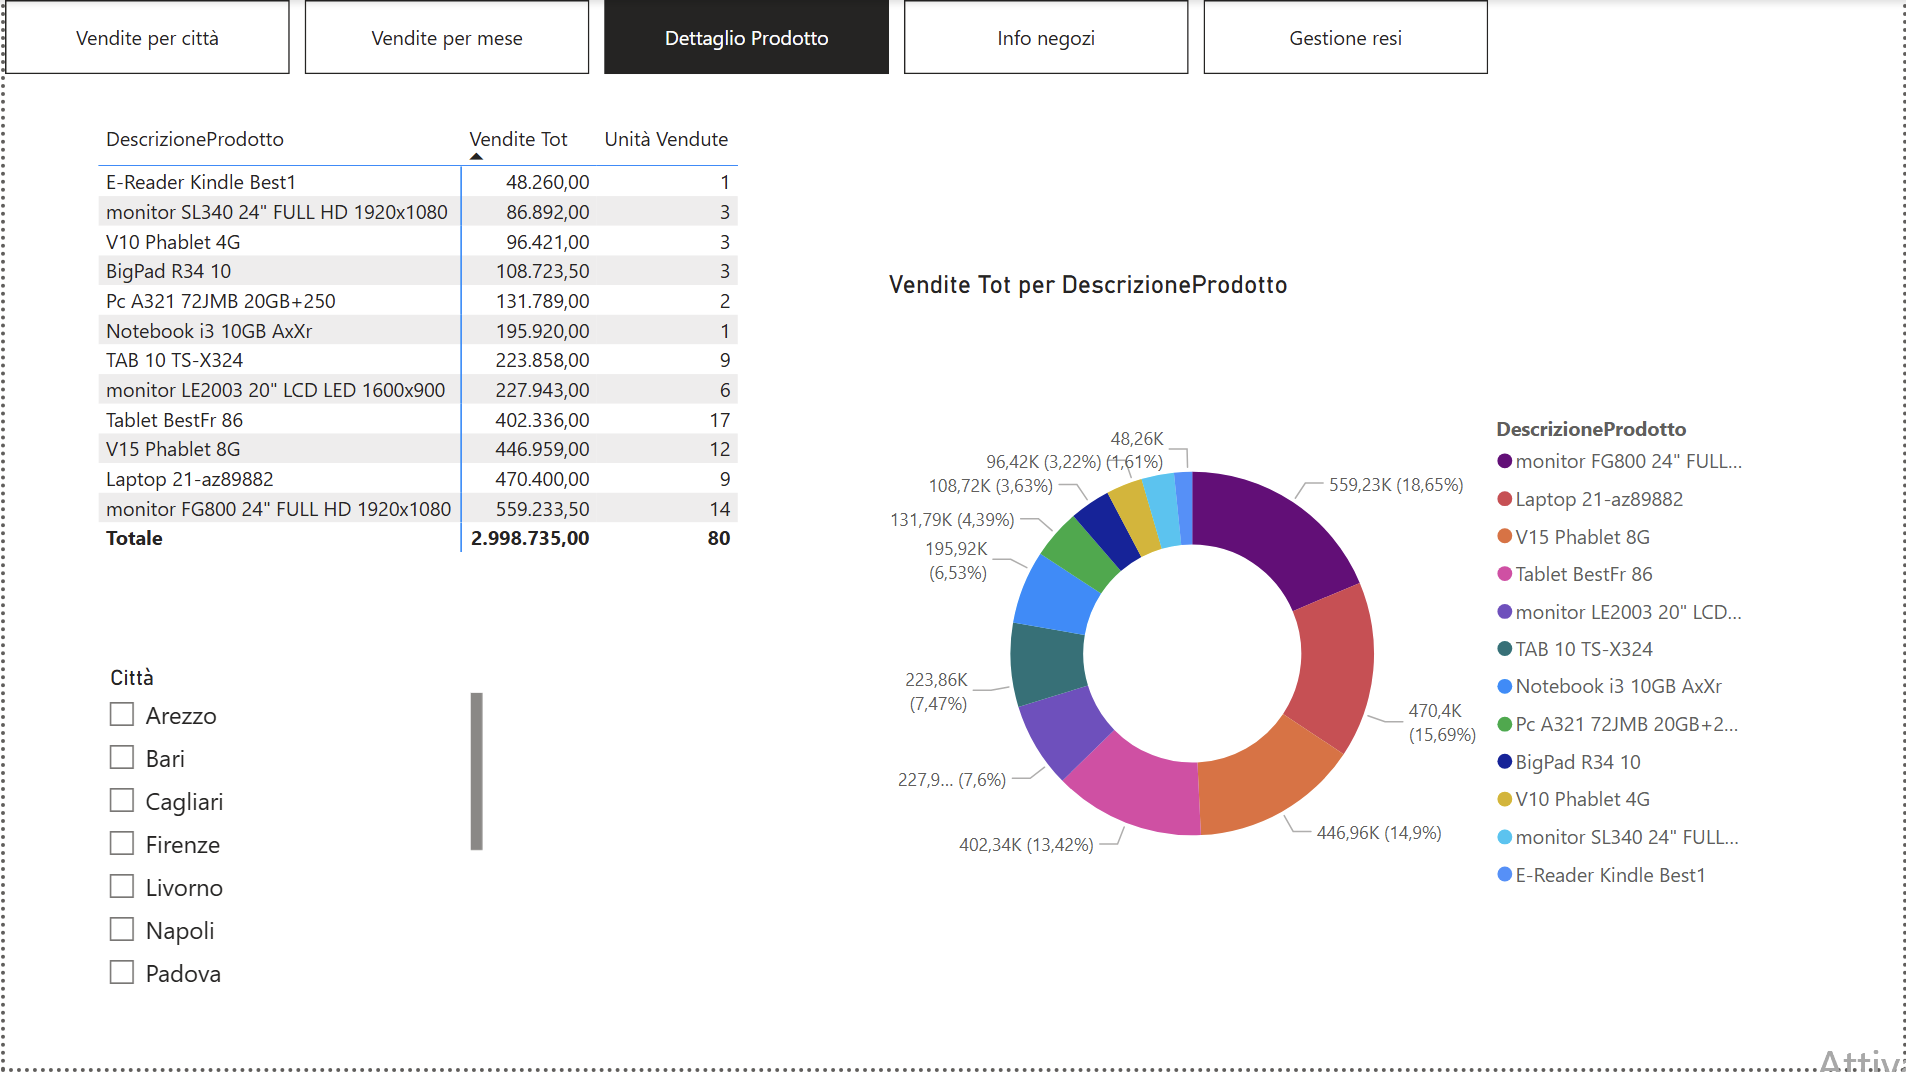

The page's visual inventory and layout, read from the dashboard file:
{"tool":"powerbi","page":{"name":"Dettaglio Prodotto","canvas":[1280,720],"ordinal":2},"visuals":[{"type":"donutChart","fields":{"Category":["Prodotti.DescrizioneProdotto"],"Y":["Calendario.Vendite Tot"]},"box":[591.2,181.8,595.7,498.1],"z":0},{"type":"pivotTable","fields":{"Rows":["Prodotti.DescrizioneProdotto"],"Values":["Calendario.Vendite Tot","Calendario.Unità Vendute"]},"box":[57.6,78.3,533.6,368],"z":1000},{"type":"slicer","fields":{"Values":["Negozi.Città"]},"box":[57.6,443.4,269,236.5],"z":2000},{"type":"pageNavigator","box":[0,0,1000.6,50.3],"z":2001}]}

Visuals, with their boxes in screenshot pixels (x1, y1, x2, y2), scaled from the page's 1280x720 canvas onto the 1906x1072 screenshot:
donutChart - Prodotti.DescrizioneProdotto x Calendario.Vendite Tot: [880,271,1767,1012]
pivotTable - Prodotti.DescrizioneProdotto x Calendario.Vendite Tot: [86,117,880,664]
slicer - Negozi.Città: [86,660,486,1012]
pageNavigator: [0,0,1490,75]
